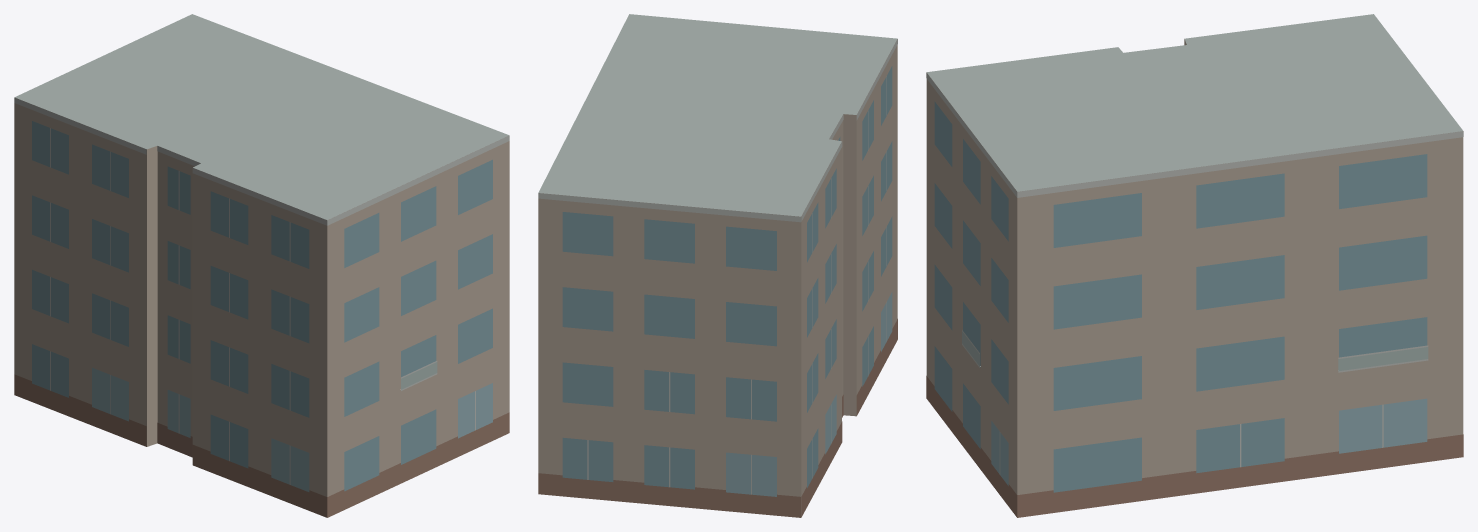
File: survey-upis-32621591.glb
The picture shows the model from 3 angles, left to right: view 1: azimuth 30°, elevation 25°; view 2: azimuth 150°, elevation 25°; view 3: azimuth 270°, elevation 25°; orthographic projection. The views are drawn at different scales.
Visible parts, largest first — view 1: survey-upis-32621591.tmp; view 2: survey-upis-32621591.tmp; view 3: survey-upis-32621591.tmp.
Part boxes in pixels (x1=…): survey-upis-32621591.tmp: x1=14, y1=14, x2=509, y2=517; survey-upis-32621591.tmp: x1=538, y1=14, x2=897, y2=517; survey-upis-32621591.tmp: x1=926, y1=14, x2=1463, y2=517.
Size of the model in its own units: 15.21 by 13 by 19.41.
